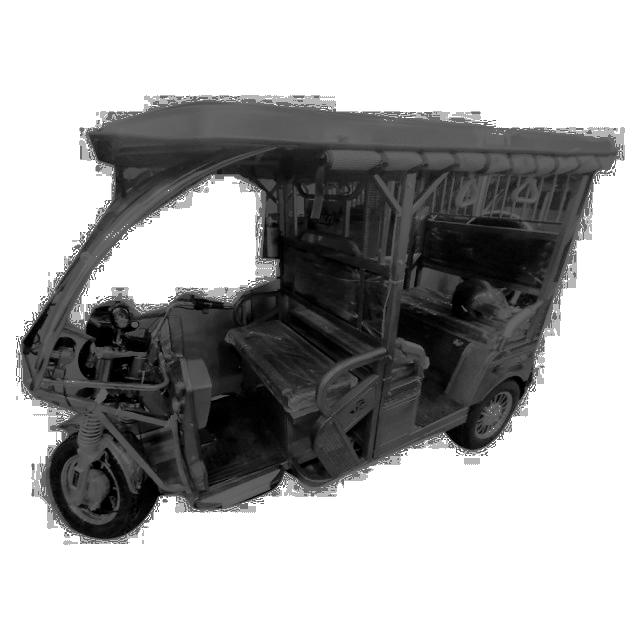Toto: (34, 141, 612, 536)
